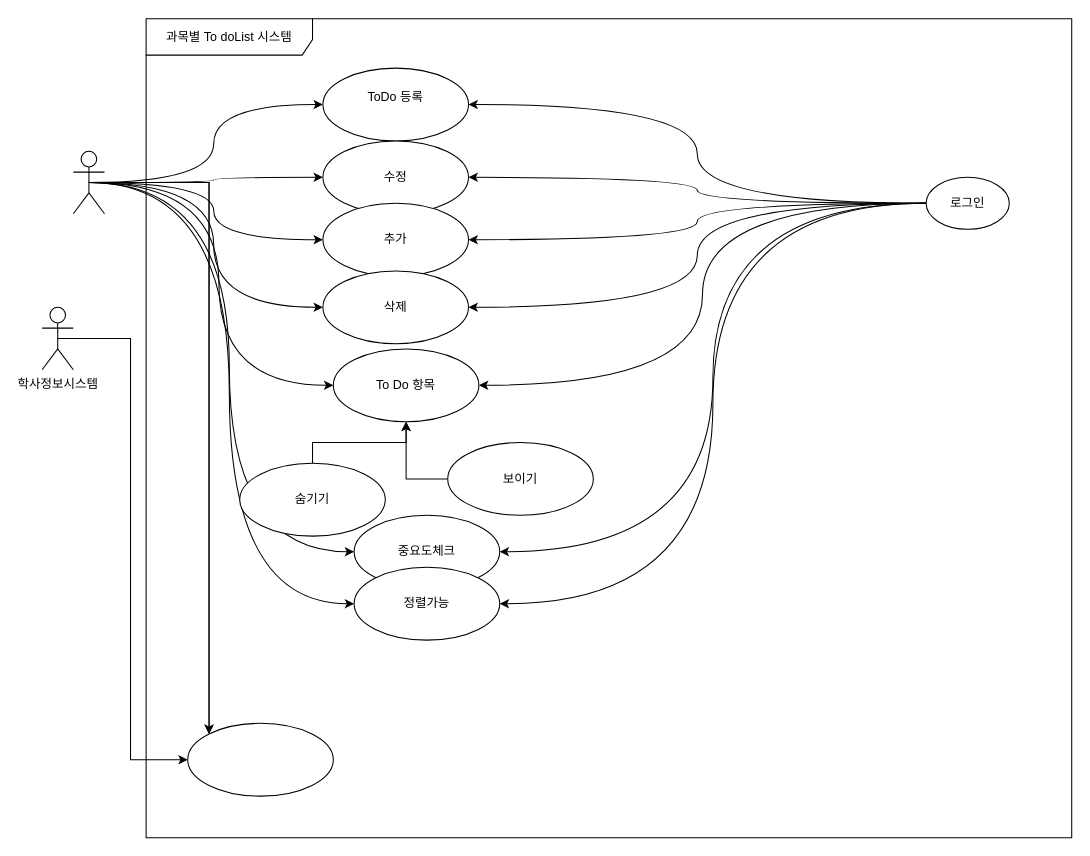
The diagram is 1090 pixels wide and 856 high, and some of its shapes have lost their labels. The shapes that lost their labels are listed below. From the top down, each one's box as (x1, y1, x2, y2) in pixels, then its label:
(72, 150, 105, 214): 학생
(187, 722, 333, 796): 과목 리스트 조회
